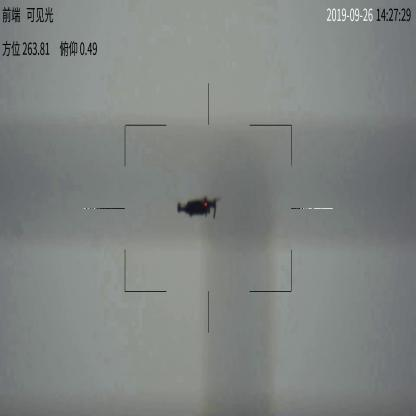uav: (166, 198, 227, 221)
